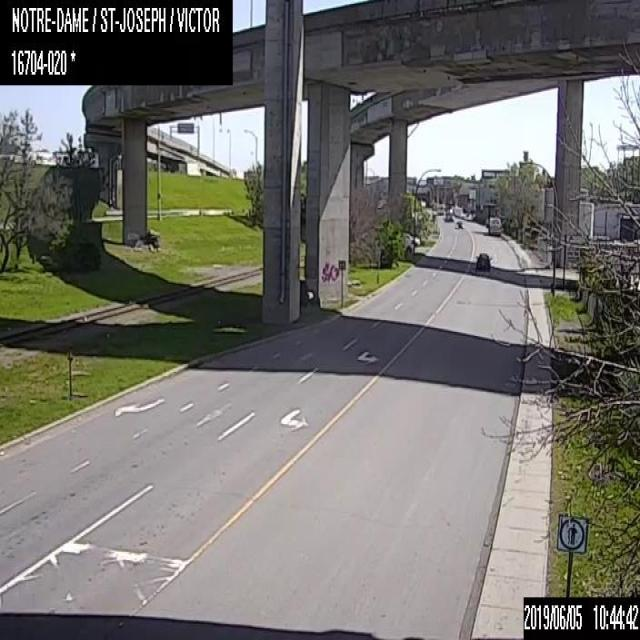vehicle: (475, 252, 489, 272), (403, 231, 419, 246), (489, 217, 501, 233), (444, 211, 452, 221), (456, 221, 462, 228)
